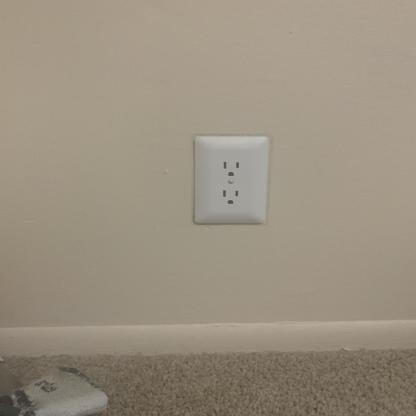OUTLET: (193, 136, 266, 224)
